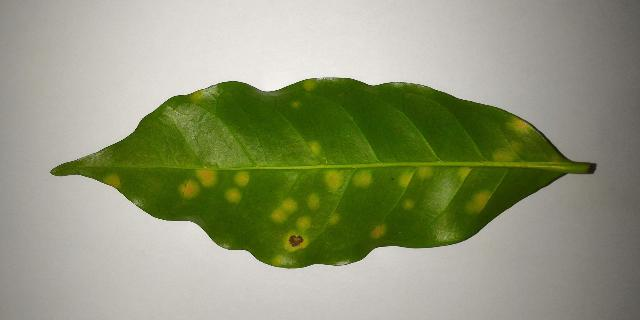miner: (283, 218, 310, 251), (271, 198, 297, 223), (508, 116, 533, 139), (468, 192, 491, 212), (197, 168, 216, 186), (326, 170, 343, 190), (180, 181, 199, 197), (353, 170, 372, 186), (104, 175, 121, 188), (327, 208, 339, 225), (418, 166, 433, 179), (495, 152, 512, 163), (308, 193, 319, 209), (372, 225, 385, 238), (235, 172, 248, 185), (226, 189, 240, 201), (459, 168, 471, 181), (508, 141, 521, 153), (309, 142, 320, 156), (401, 173, 411, 188), (273, 255, 285, 266), (195, 92, 201, 98), (406, 202, 412, 207), (307, 82, 312, 88), (293, 102, 299, 106), (334, 263, 335, 264)
